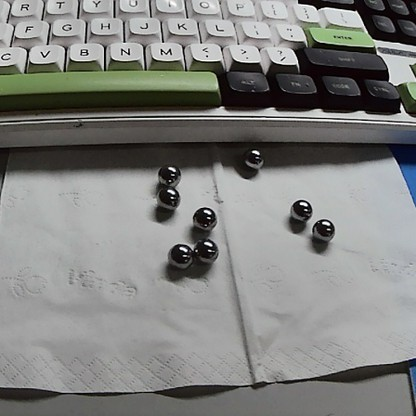ironball: (164, 235, 197, 275), (283, 193, 318, 225), (153, 160, 187, 190), (188, 200, 220, 231), (192, 237, 227, 265), (236, 145, 271, 171), (151, 181, 182, 208), (311, 215, 332, 243)
